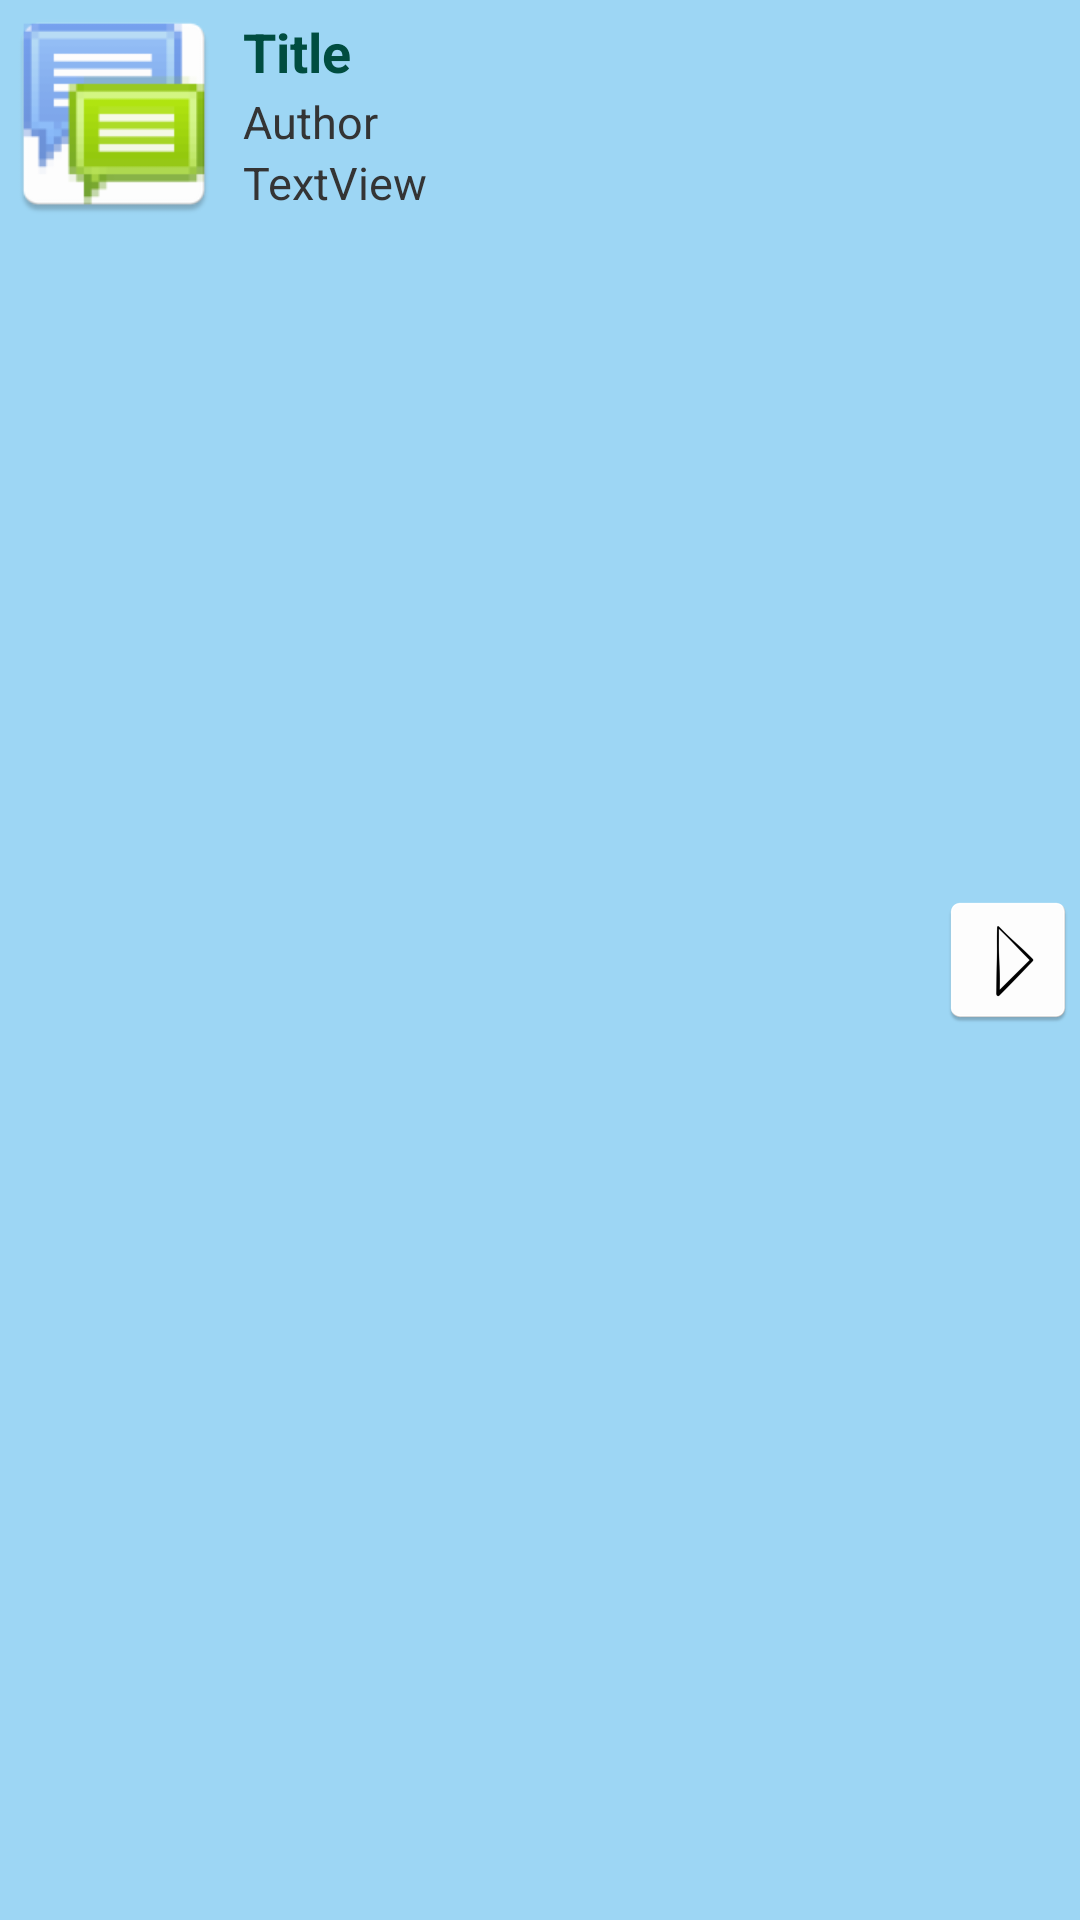

Screen size 1080 × 1920. Icon name, then its box in pixels as (x1, y1, x2, y2):
forward: (951, 903, 1066, 1021)
